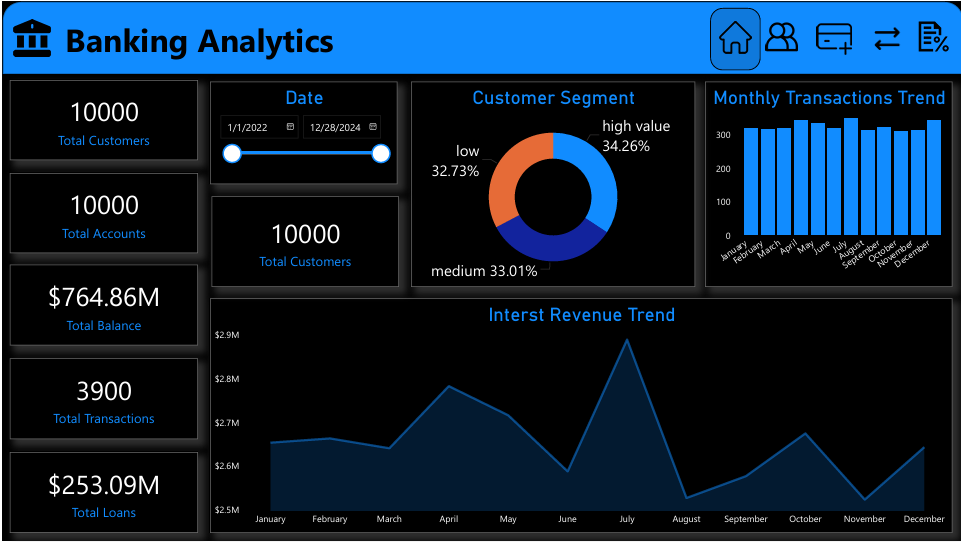

The page's visual inventory and layout, read from the dashboard file:
{"tool":"powerbi","page":{"name":"Overview","canvas":[1280,720],"ordinal":0},"visuals":[{"type":"shape","box":[0,0,1280,96],"z":0},{"type":"image","box":[14,18,50,60],"z":3000},{"type":"textbox","box":[78,16,394,88],"z":8000},{"type":"card","fields":{"Values":["Count(banking_system customers.customer_id)"]},"box":[8.8,103.8,251.2,107.5],"z":10000},{"type":"card","fields":{"Values":["Count(banking_system accounts.account_id)"]},"box":[8.8,227.5,251.2,107.5],"z":11000},{"type":"card","fields":{"Values":["Sum(banking_system accounts.balance)"]},"box":[8.8,350,251.2,107.5],"z":12000},{"type":"card","fields":{"Values":["Count(banking_system transactions.transaction_id)"]},"box":[8.8,475,251.2,107.5],"z":13000},{"type":"card","fields":{"Values":["Sum(banking_system loans.loan_amount)"]},"box":[8.8,600,251.2,107.5],"z":14000},{"type":"clusteredColumnChart","title":"Monthly Transactions Trend","fields":{"Category":["banking_system accounts.account_date.Variation.Date Hierarchy.Month"],"Y":["CountNonNull(banking_system transactions.account_id)"]},"box":[936.2,106.2,330,273.8],"z":15000},{"type":"donutChart","title":"Customer Segment","fields":{"Category":["banking_system customers.customer_segment"],"Y":["CountNonNull(banking_system customers.customer_segment)"]},"box":[543.8,106.2,378.8,273.8],"z":16000},{"type":"lineChart","title":"Interst Revenue Trend","fields":{"Y":["banking_system accounts.Total Revenue"],"Category":["banking_system accounts.account_date.Variation.Date Hierarchy.Month"]},"box":[276.2,395,990,312.5],"z":17000},{"type":"slicer","title":"Date","fields":{"Values":["banking_system accounts.account_date"]},"box":[276.2,106.2,250,136.2],"z":18000},{"type":"card","fields":{"Values":["Count(banking_system customers.customer_id)"]},"box":[277.5,258.8,250,121.2],"z":19000},{"type":"image","box":[949.3,25.8,54.5,43.6],"z":19001},{"type":"image","box":[1009.3,24.8,59,43.3],"z":19002},{"type":"image","box":[1211.1,21.2,60,50],"z":19003},{"type":"image","box":[1138.4,29.4,81.8,40],"z":19004},{"type":"image","box":[1067.5,25.8,81.8,47.3],"z":19005},{"type":"shape","box":[942.5,7.5,67.5,83.8],"z":19006}]}

Visuals, with their boxes in screenshot pixels (x1, y1, x2, y2), scaled from the page's 1280x720 canvas onto the 961x544 screenshot:
shape: box=[0, 0, 960, 73]
image: box=[11, 14, 48, 59]
textbox: box=[59, 12, 354, 79]
card - Count(banking_system customers.customer_id): box=[7, 78, 195, 160]
card - Count(banking_system accounts.account_id): box=[7, 172, 195, 253]
card - Sum(banking_system accounts.balance): box=[7, 264, 195, 346]
card - Count(banking_system transactions.transaction_id): box=[7, 359, 195, 440]
card - Sum(banking_system loans.loan_amount): box=[7, 453, 195, 535]
"Monthly Transactions Trend" clusteredColumnChart: box=[703, 80, 951, 287]
"Customer Segment" donutChart: box=[408, 80, 693, 287]
"Interst Revenue Trend" lineChart: box=[207, 298, 951, 535]
"Date" slicer: box=[207, 80, 395, 183]
card - Count(banking_system customers.customer_id): box=[208, 196, 396, 287]
image: box=[713, 19, 754, 52]
image: box=[758, 19, 802, 51]
image: box=[909, 16, 954, 54]
image: box=[855, 22, 916, 52]
image: box=[801, 19, 863, 55]
shape: box=[708, 6, 758, 69]
